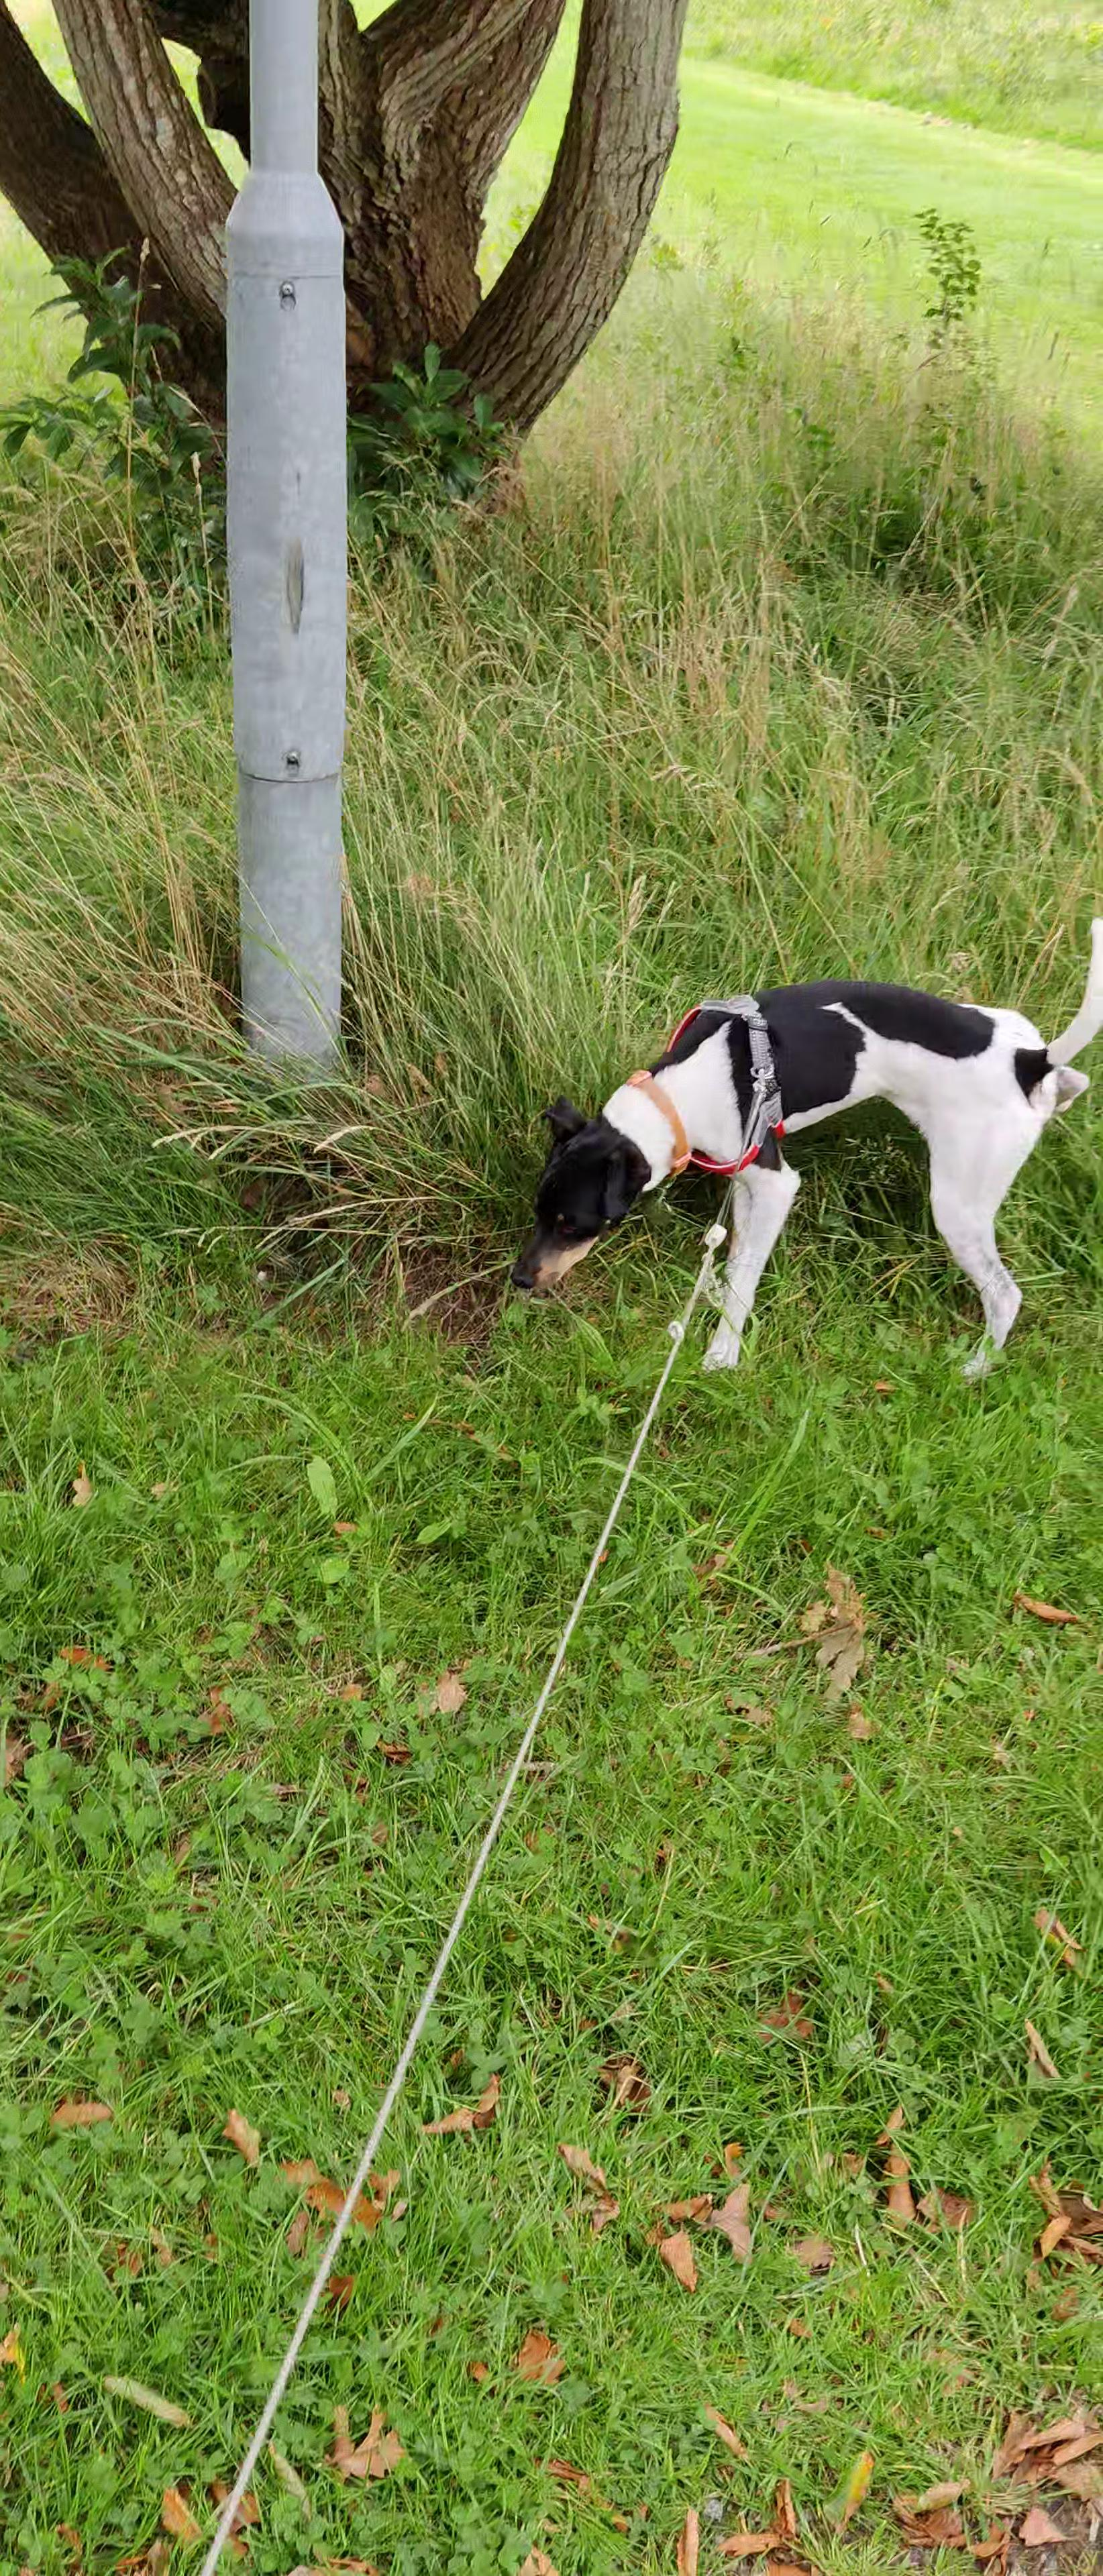Dog: (505, 915, 1103, 1388)
